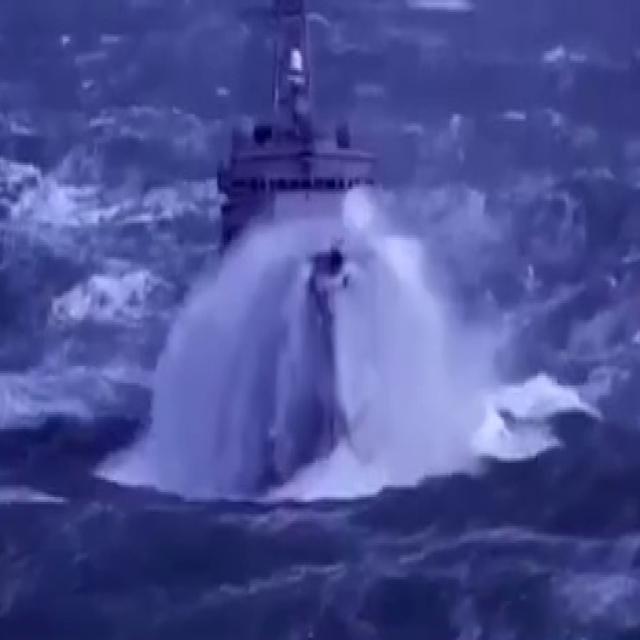houseboat: (209, 0, 383, 468)
